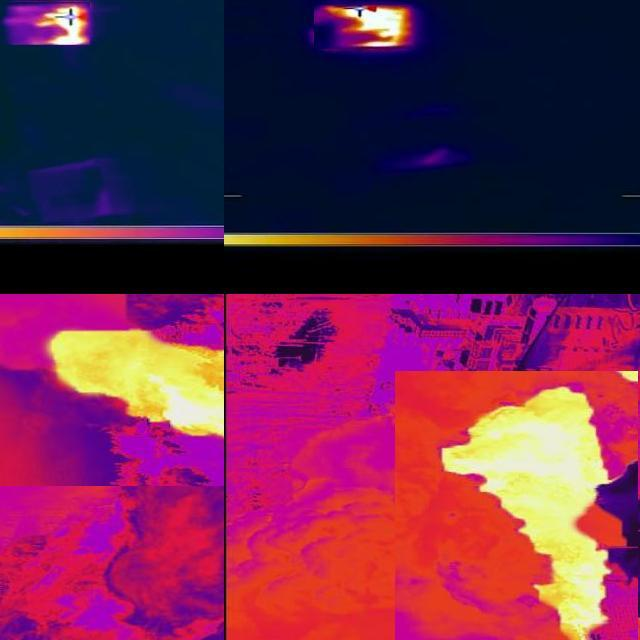fire: (438, 387, 638, 640), (52, 327, 225, 442), (314, 6, 412, 50), (1, 3, 90, 46)
